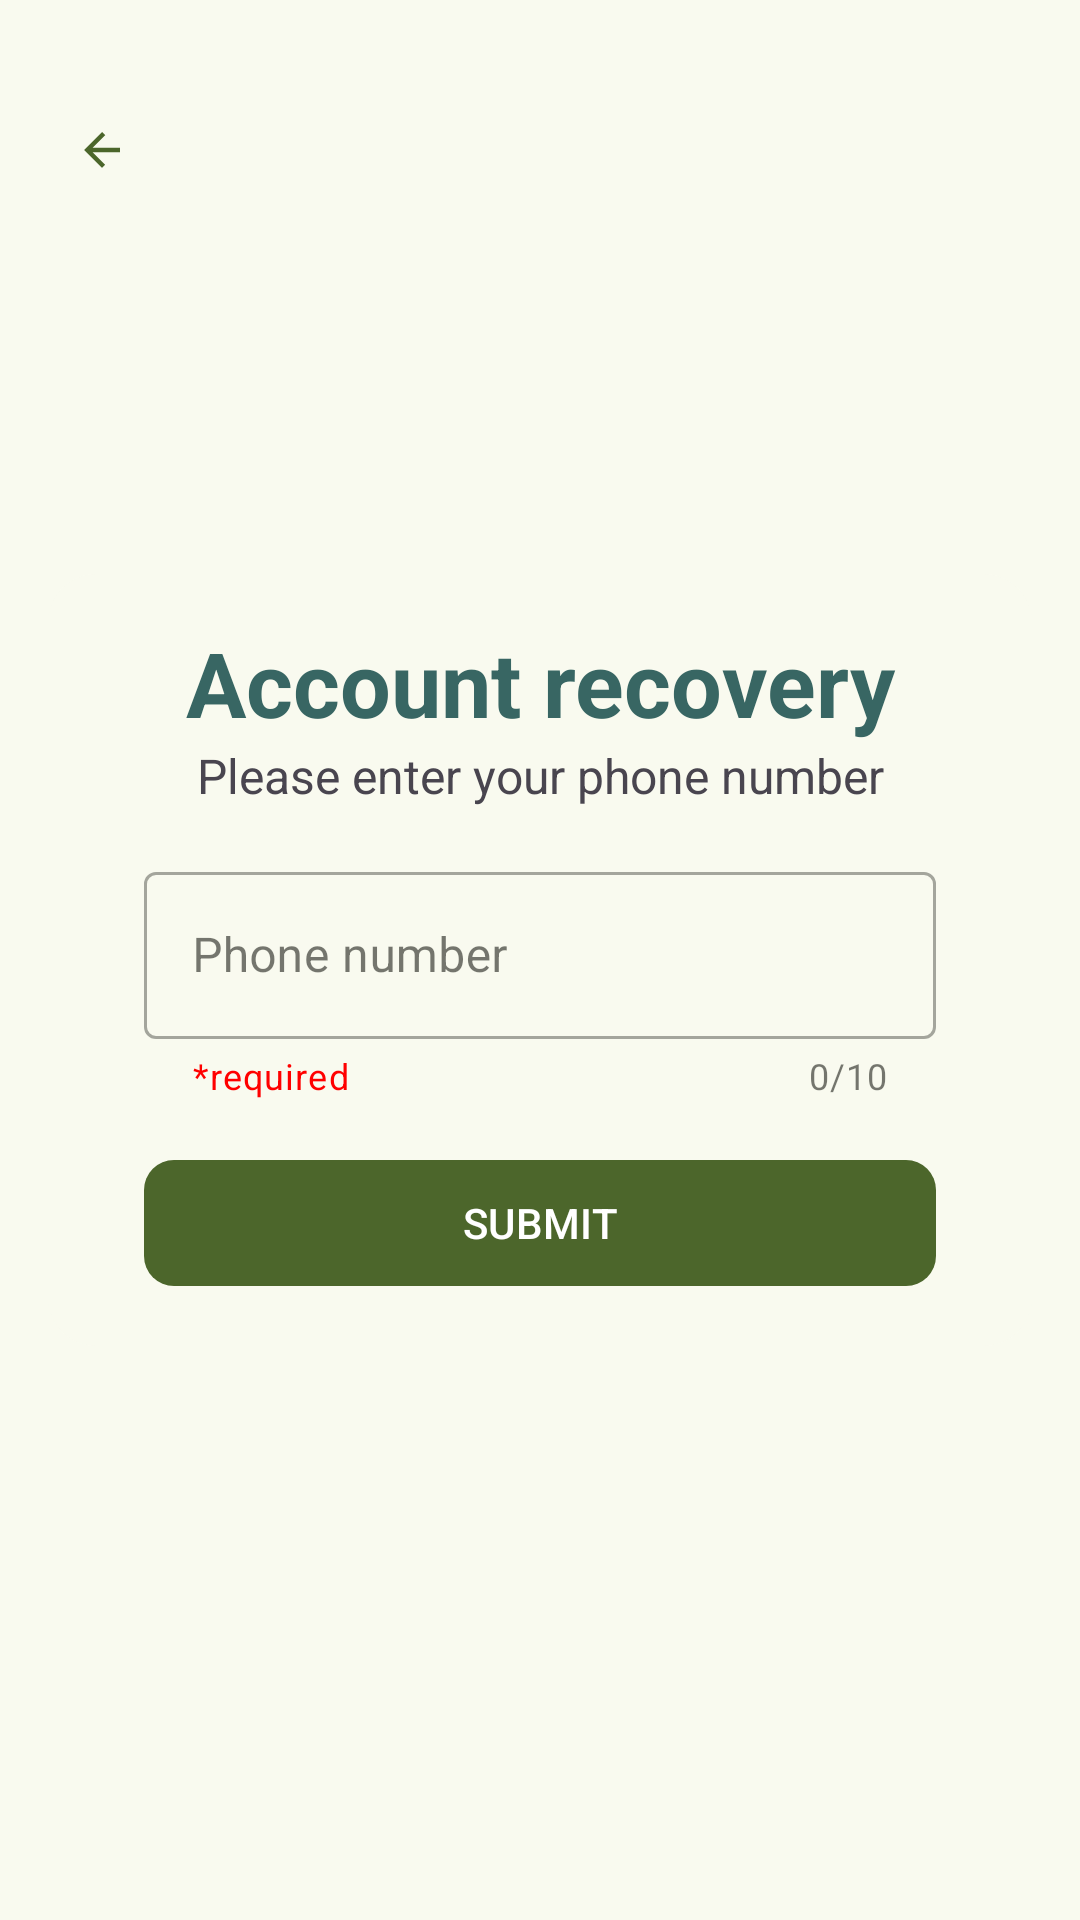

Icon click points for this 1080 x 1920 phone screenshot, format (x,y):
arrow back: (102,150)
